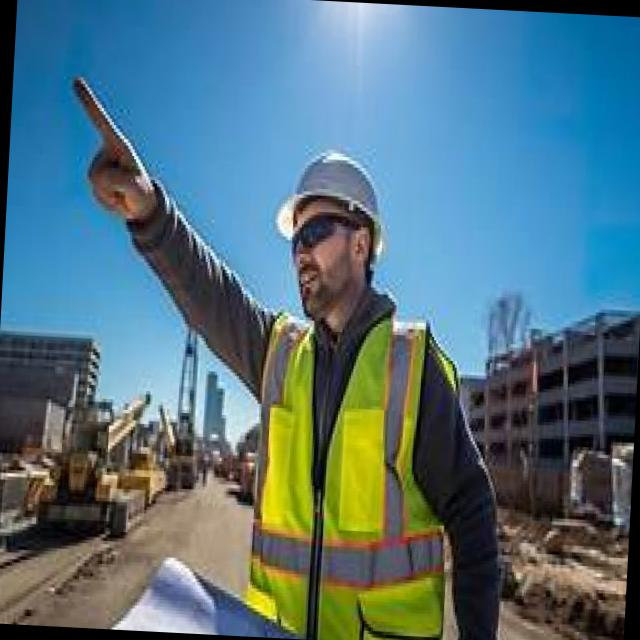not-gloved: (46, 52, 161, 234)
